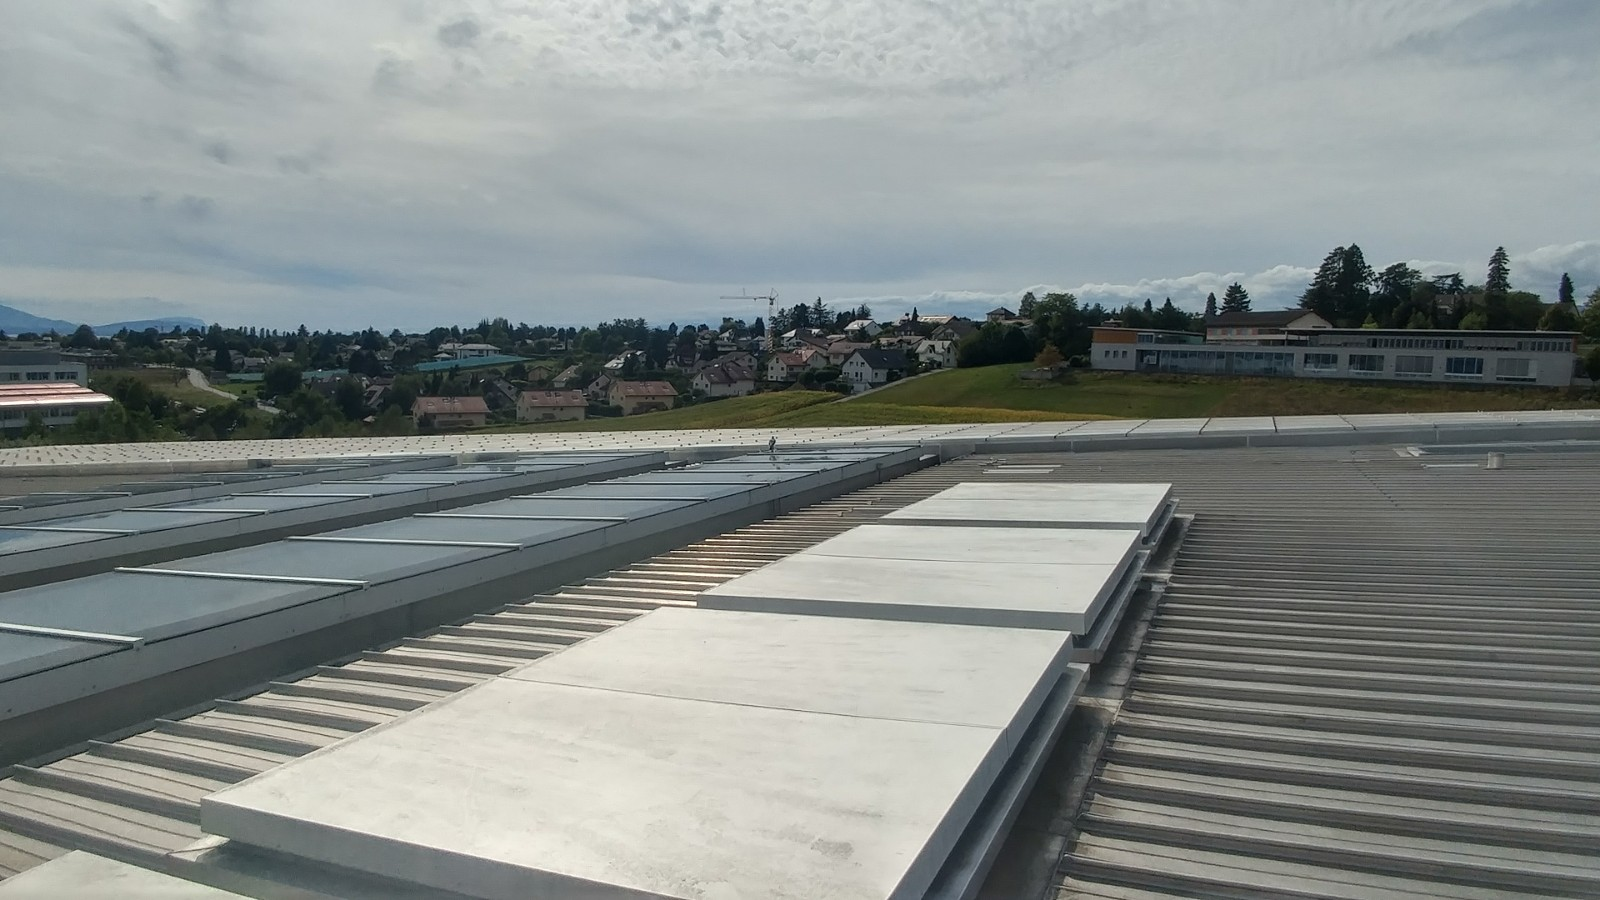Pigeon: (766, 434, 780, 453)
